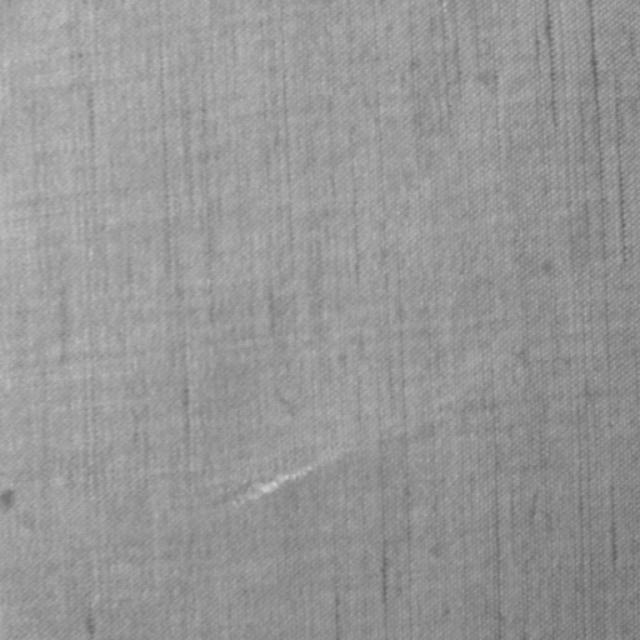thread error: (202, 391, 483, 521)
